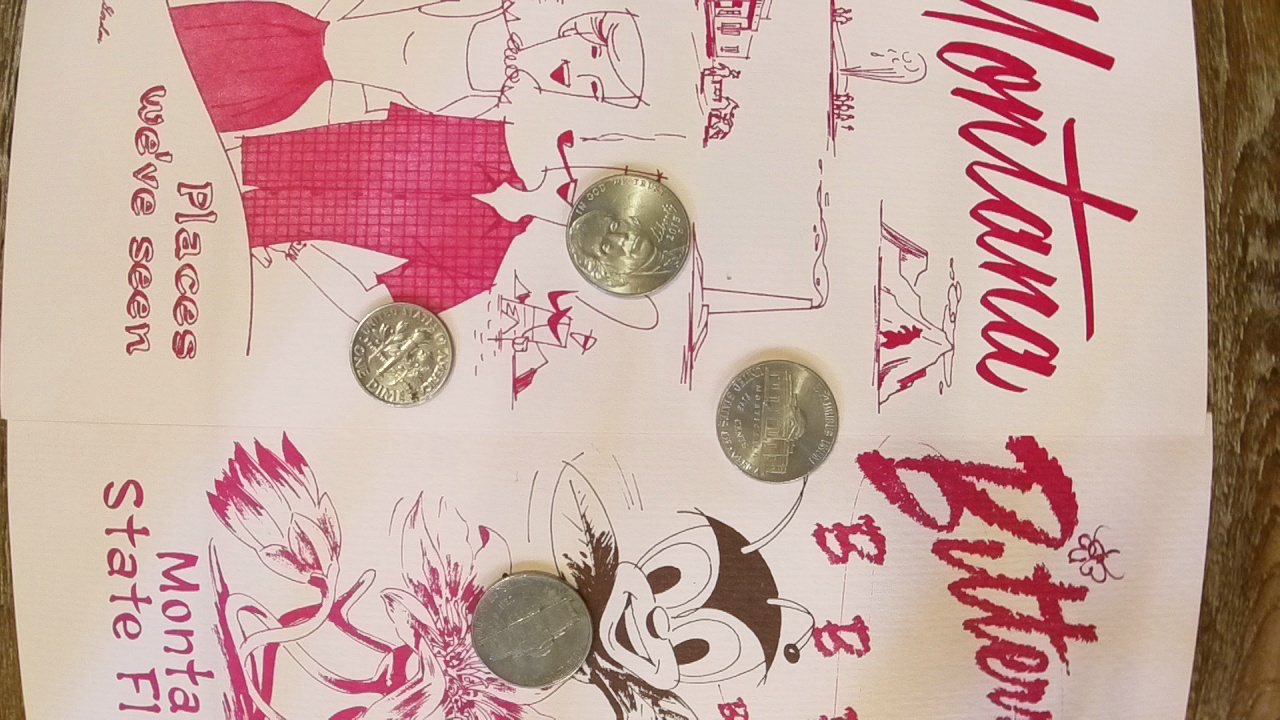dime: (348, 301, 454, 407)
nickel: (554, 172, 704, 298), (714, 358, 840, 482), (470, 571, 594, 693)
